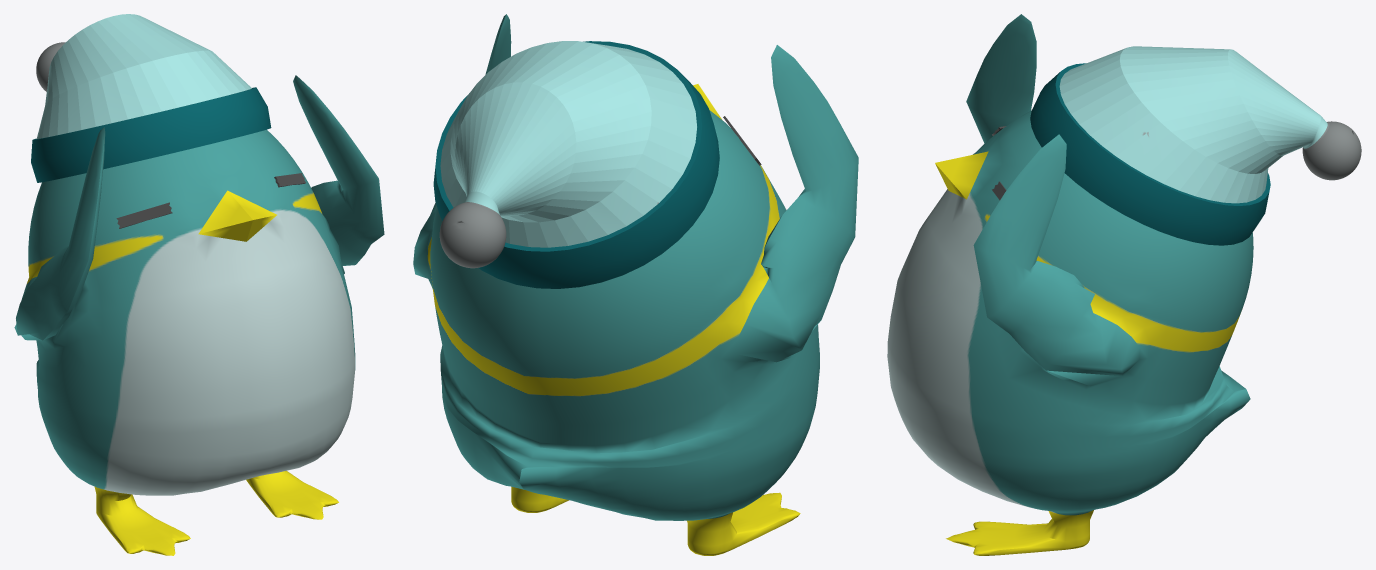
File: penguin_blue_throw_07f.fbx
3 renders of one model, left to right at view 1: azimuth 30°, elevation 25°; view 2: azimuth 150°, elevation 25°; view 3: azimuth 270°, elevation 25°, orthographic. The views are drawn at different scales.
Parts seen in each view (by area): view 1: ppp7, bousi, ai; view 2: ppp7, bousi; view 3: ppp7, bousi.
Boxes of the visible parts, bbox=[...] form: ppp7: bbox=[14, 75, 384, 555]; bousi: bbox=[31, 14, 271, 182]; ai: bbox=[116, 173, 305, 228]; ppp7: bbox=[413, 14, 858, 555]; bousi: bbox=[433, 41, 719, 288]; ppp7: bbox=[887, 14, 1253, 555]; bousi: bbox=[1030, 46, 1361, 245].
Size of the model in its own units: 14.45 by 18.45 by 17.67.
1 material, 1 textured.
